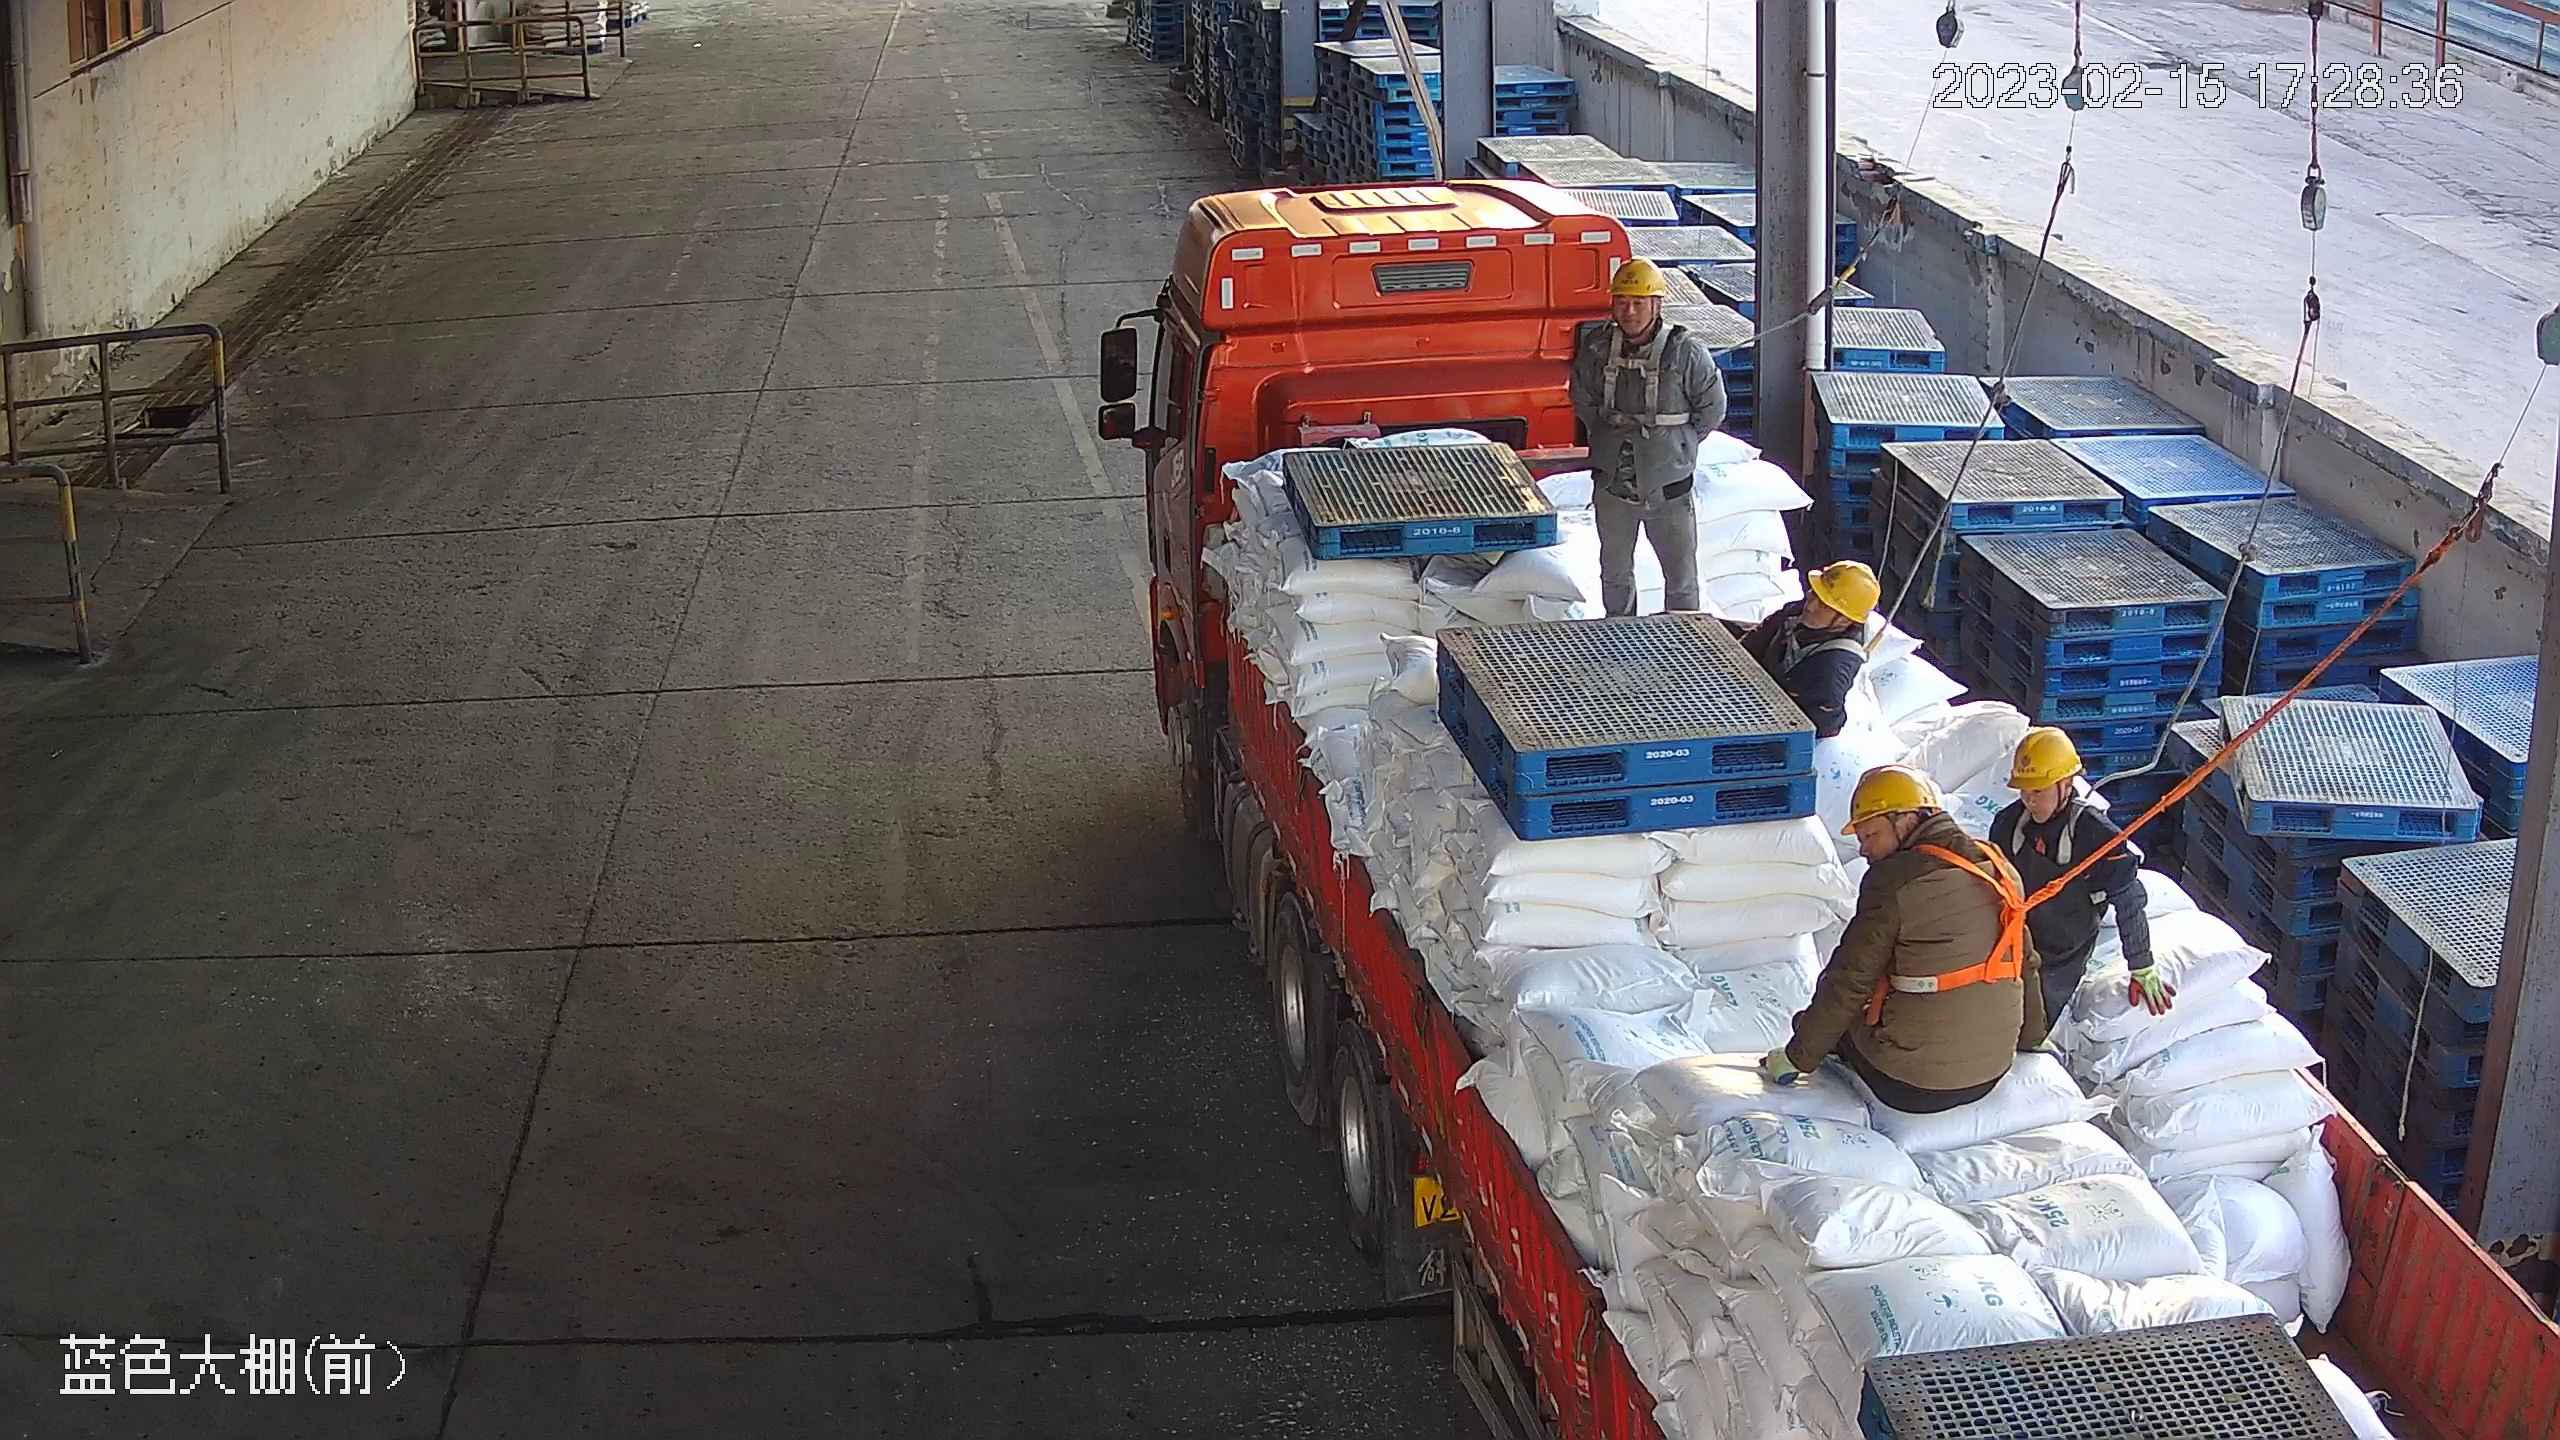belt: (1897, 844, 2065, 990), (1606, 343, 1688, 427), (1779, 627, 1858, 683), (2007, 818, 2079, 865)
head: (1841, 774, 2000, 888), (1579, 260, 1706, 364), (1788, 558, 1877, 692), (2002, 734, 2109, 841)
helmet: (1841, 769, 1937, 834), (1806, 555, 1879, 622), (2009, 729, 2084, 792), (1609, 255, 1669, 301)
people: (1762, 765, 2044, 1109), (1570, 257, 1725, 615)
truck: (1102, 181, 2560, 1440)
